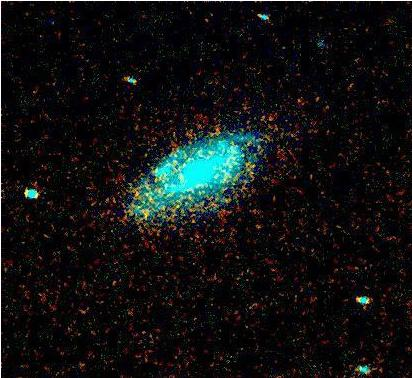star: (244, 212, 274, 242)
